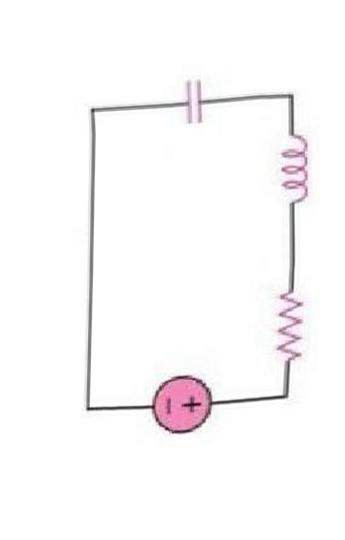Battery: (135, 353, 224, 460)
